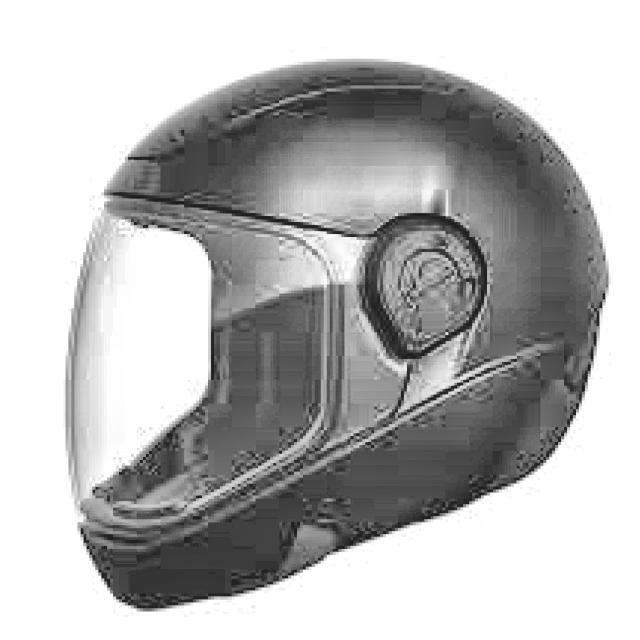Helmet: (44, 53, 623, 619)
